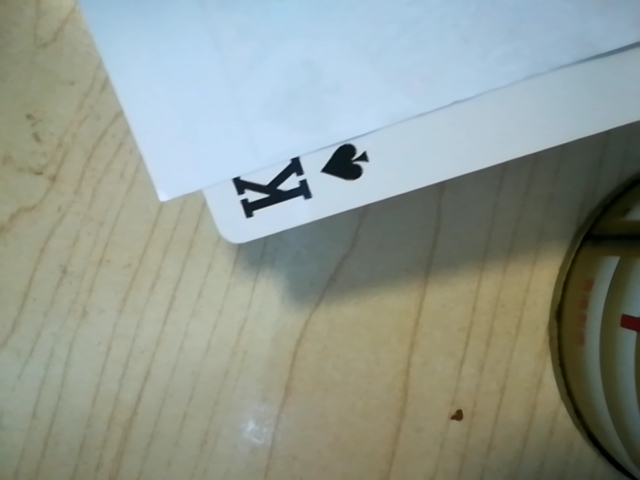ht k: (208, 133, 389, 232)
